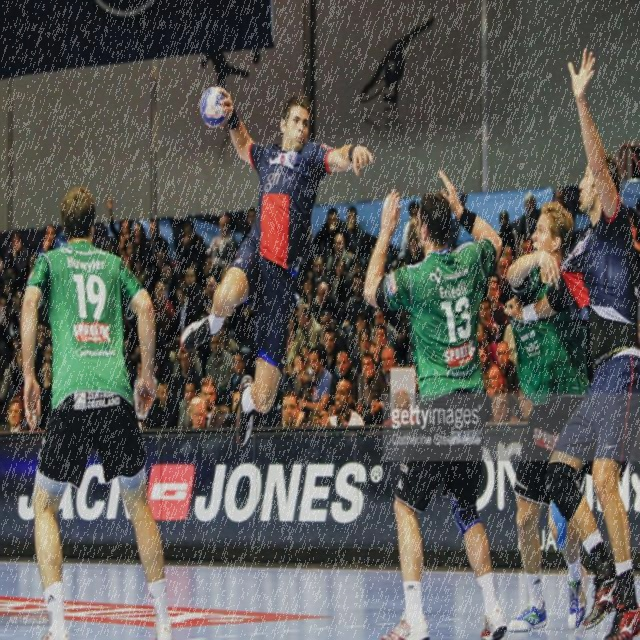pessoa: (19, 181, 186, 639), (177, 79, 377, 454), (361, 163, 512, 639), (542, 41, 640, 639), (502, 198, 598, 640), (280, 297, 410, 393), (92, 192, 214, 277), (297, 204, 403, 298), (471, 280, 524, 387), (117, 308, 158, 428), (164, 276, 218, 343), (296, 344, 333, 430), (284, 302, 322, 381), (311, 378, 366, 430), (148, 280, 176, 378), (374, 342, 402, 432), (354, 352, 389, 419), (205, 215, 236, 288), (326, 348, 359, 414), (488, 235, 534, 281), (140, 378, 180, 430), (204, 326, 234, 392), (314, 206, 347, 266), (198, 374, 228, 429), (494, 209, 522, 267), (172, 348, 200, 404), (312, 279, 343, 328), (224, 348, 246, 416), (398, 198, 422, 260), (226, 302, 256, 351), (516, 189, 542, 241), (324, 232, 356, 274), (340, 205, 364, 258), (622, 190, 640, 260), (488, 385, 521, 423), (280, 390, 306, 428), (298, 271, 318, 317), (402, 237, 427, 271), (6, 396, 30, 431), (509, 386, 533, 420), (188, 396, 210, 431), (242, 206, 256, 242)
